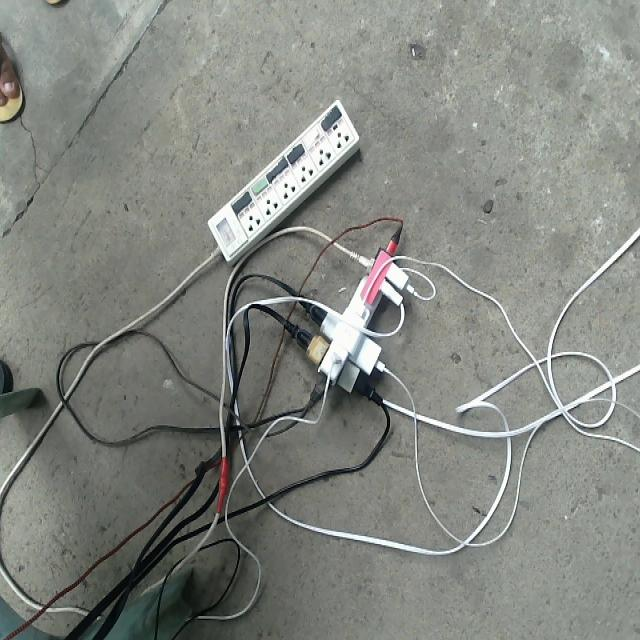-: (296, 235, 409, 392)
